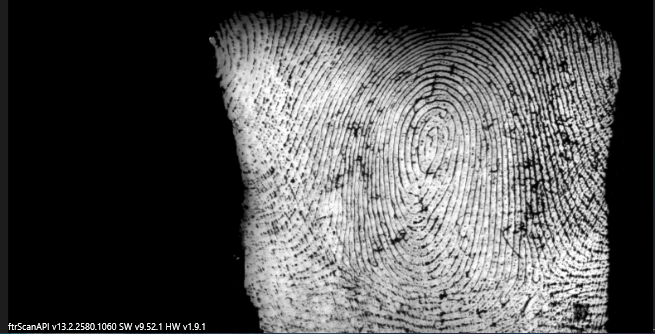nucelo: (425, 126, 441, 167)
verticilo: (321, 255, 352, 273), (535, 266, 556, 291)
